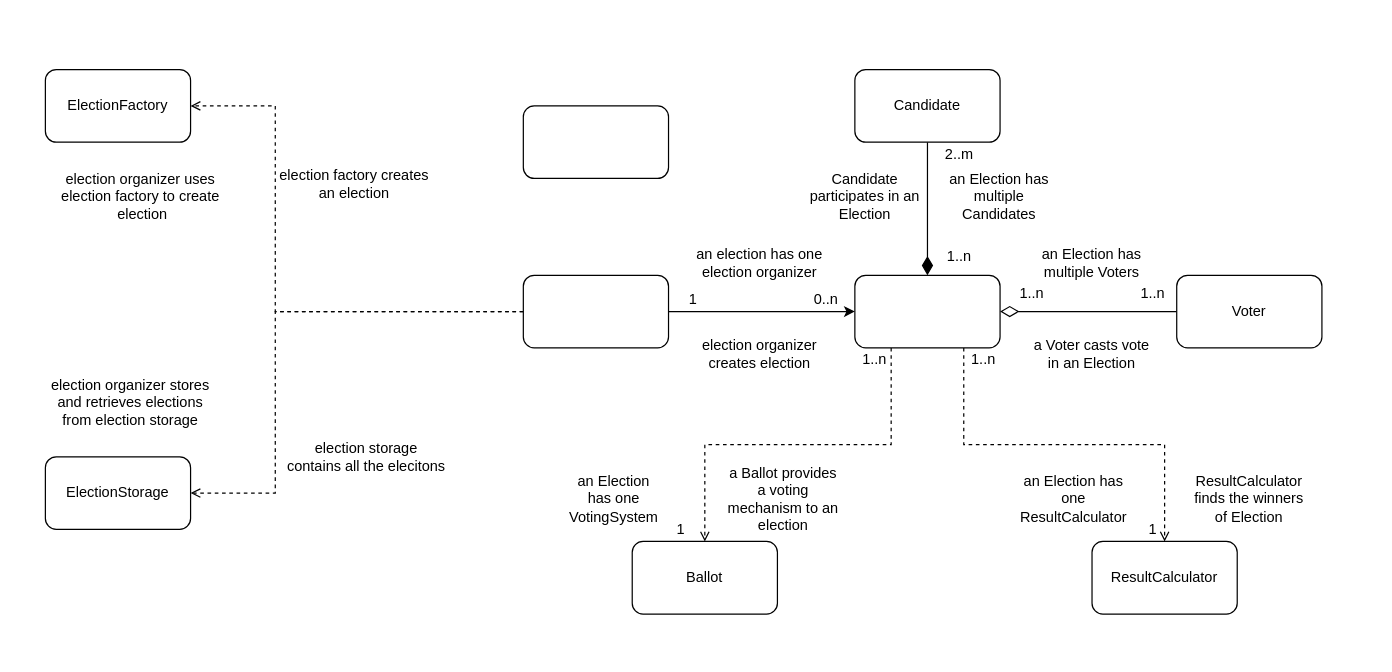
Image size: 1392x672. Some labels were removed from this diagram. The shapes that lost their labels are listed below. From the top down, each one's box as (x1, y1, x2, y2) in pixels, then its label:
(522, 105, 669, 178): Authentication
(522, 274, 669, 348): ElectionOrganizer
(854, 274, 1000, 348): Election
